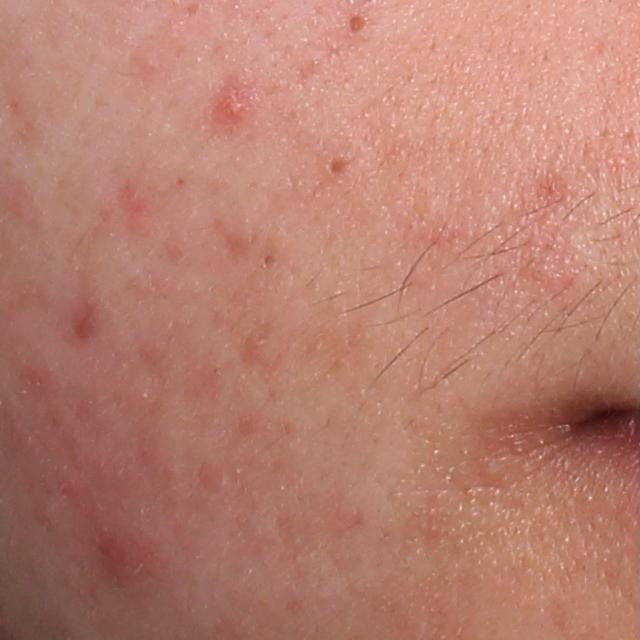comedo: (343, 13, 370, 35), (326, 154, 348, 177), (260, 253, 278, 270)
papule: (91, 512, 170, 594), (215, 85, 253, 128)
